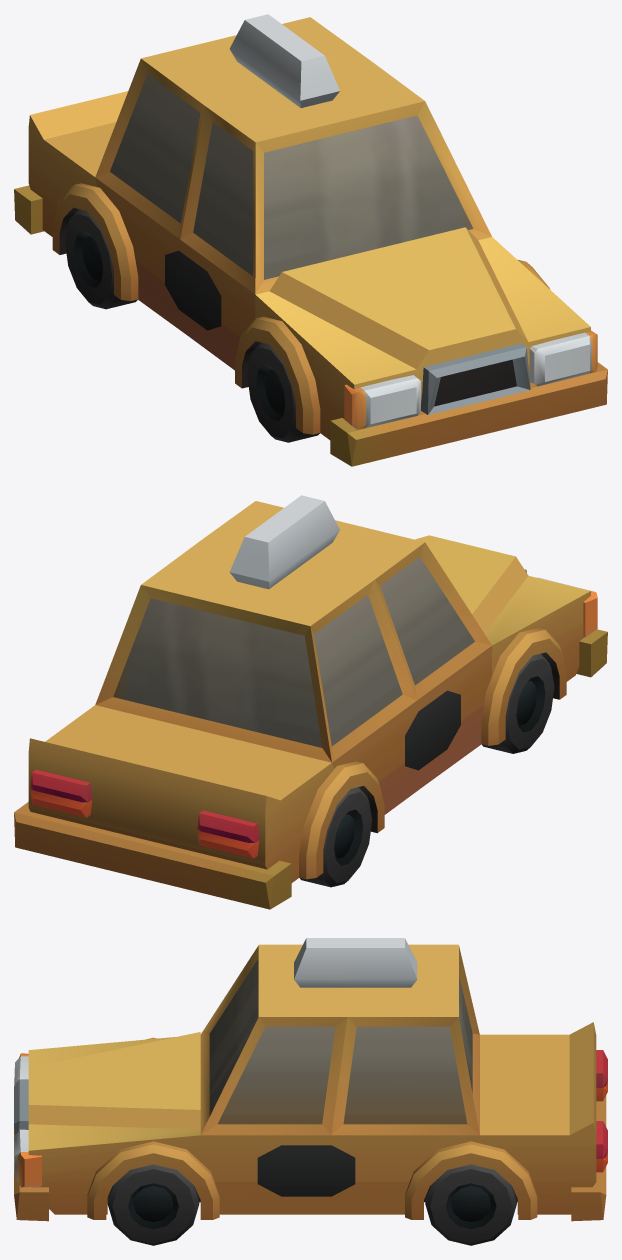
The model's file is kkcity.car_taxi.glb.
The picture shows the model from 3 angles, top to bottom: view 1: azimuth 30°, elevation 25°; view 2: azimuth 150°, elevation 25°; view 3: azimuth 270°, elevation 25°; orthographic projection. The views are drawn at different scales.
Parts seen in each view (by area): view 1: Cube.1023, car_taxi_wheel_rear_right, car_taxi_wheel_front_right; view 2: Cube.1023, car_taxi_wheel_front_right, car_taxi_wheel_rear_right; view 3: Cube.1023, car_taxi_wheel_front_left, car_taxi_wheel_rear_left.
Part boxes in pixels (box(x1,y1,x2,y2)): Cube.1023: box(14, 14, 607, 466); car_taxi_wheel_rear_right: box(65, 209, 137, 309); car_taxi_wheel_front_right: box(247, 342, 319, 442); Cube.1023: box(14, 495, 607, 909); car_taxi_wheel_front_right: box(482, 653, 554, 753); car_taxi_wheel_rear_right: box(299, 787, 372, 887); Cube.1023: box(14, 938, 607, 1221); car_taxi_wheel_front_left: box(107, 1164, 199, 1245); car_taxi_wheel_rear_left: box(425, 1164, 516, 1245).
Size of the model in its own units: 2.01 by 2.08 by 4.5.
Materials: 1 (1 with a texture image).
